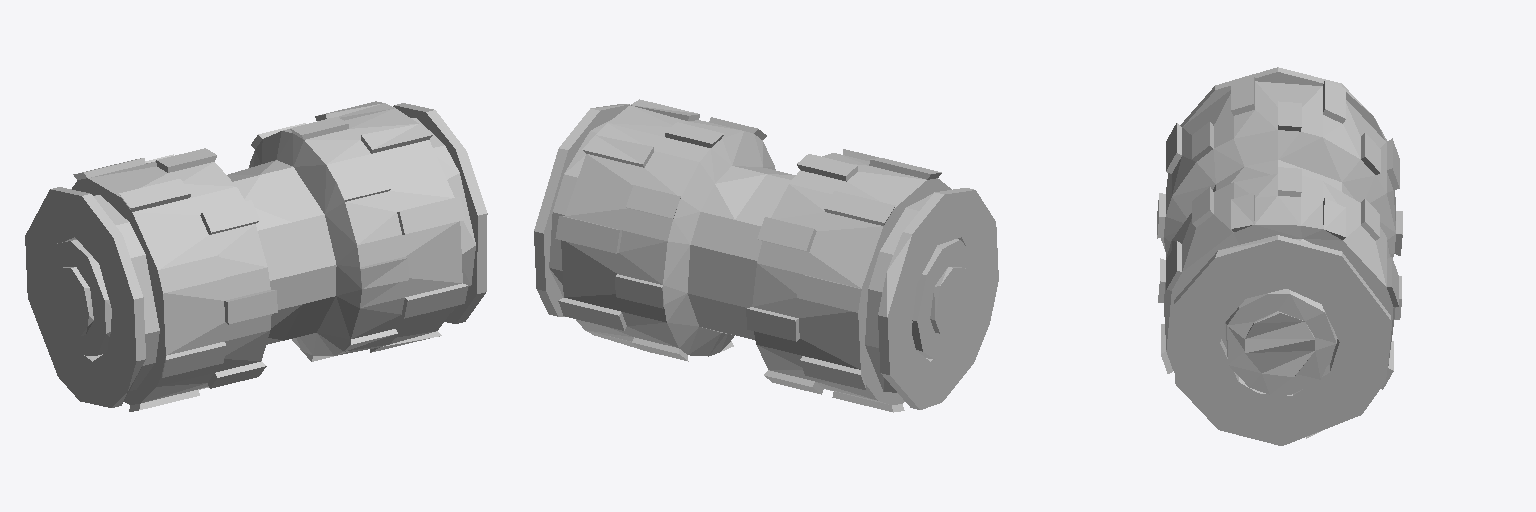
File: Kola_000002.obj
3 renders of one model, left to right at view 1: azimuth 30°, elevation 25°; view 2: azimuth 150°, elevation 25°; view 3: azimuth 270°, elevation 25°, orthographic.
Visible parts, largest first — view 1: Cylinder.004; view 2: Cylinder.004; view 3: Cylinder.004.
Boxes of the visible parts, <box> form: Cylinder.004: <box>25,101,487,411</box>; Cylinder.004: <box>534,99,998,412</box>; Cylinder.004: <box>1157,67,1402,445</box>.
Bounding box in the file's own units: 2.17 × 1.25 × 1.25.